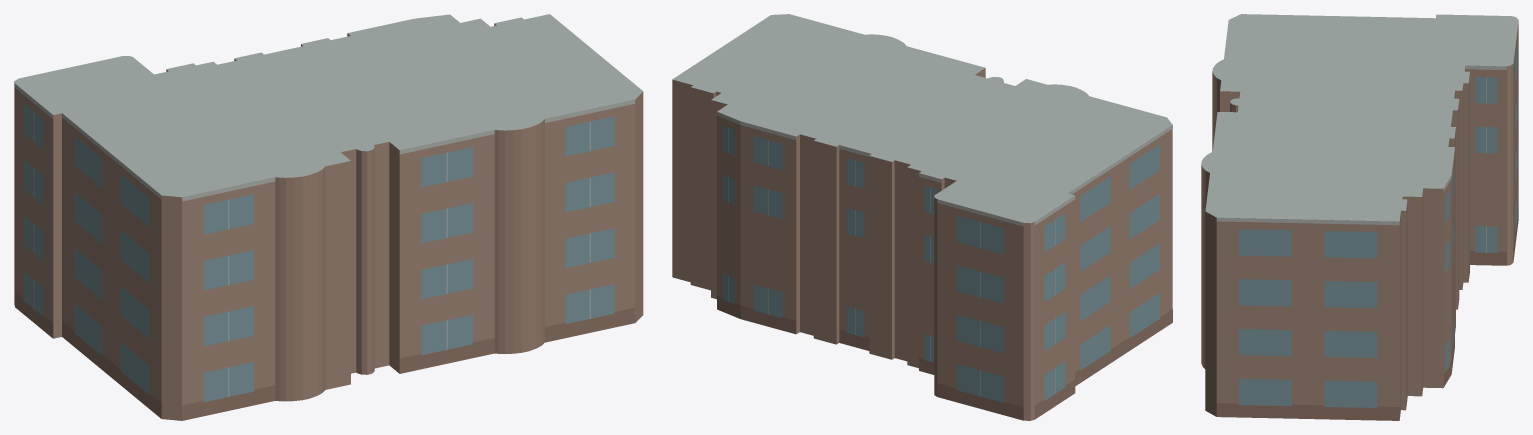
File: survey-upis-33010712.glb
3 renders of one model, left to right at view 1: azimuth 30°, elevation 25°; view 2: azimuth 150°, elevation 25°; view 3: azimuth 270°, elevation 25°, orthographic. The views are drawn at different scales.
Visible parts, largest first — view 1: survey-upis-33010712.tmp; view 2: survey-upis-33010712.tmp; view 3: survey-upis-33010712.tmp.
Part boxes in pixels (x1,y1,x2,y2): survey-upis-33010712.tmp: (14,14,643,420); survey-upis-33010712.tmp: (672,14,1172,420); survey-upis-33010712.tmp: (1201,14,1518,420).
Size of the model in its own units: 28.81 by 12.9 by 18.62.
